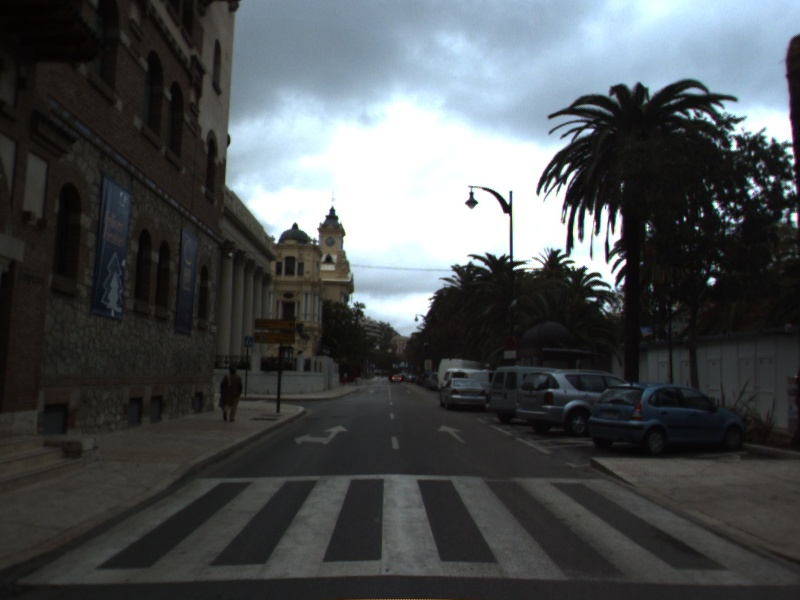STRAIGHT: (435, 422, 469, 445)
STRAIGHT_LEFT: (292, 423, 350, 447)
